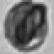correct: (2, 1, 49, 53)
